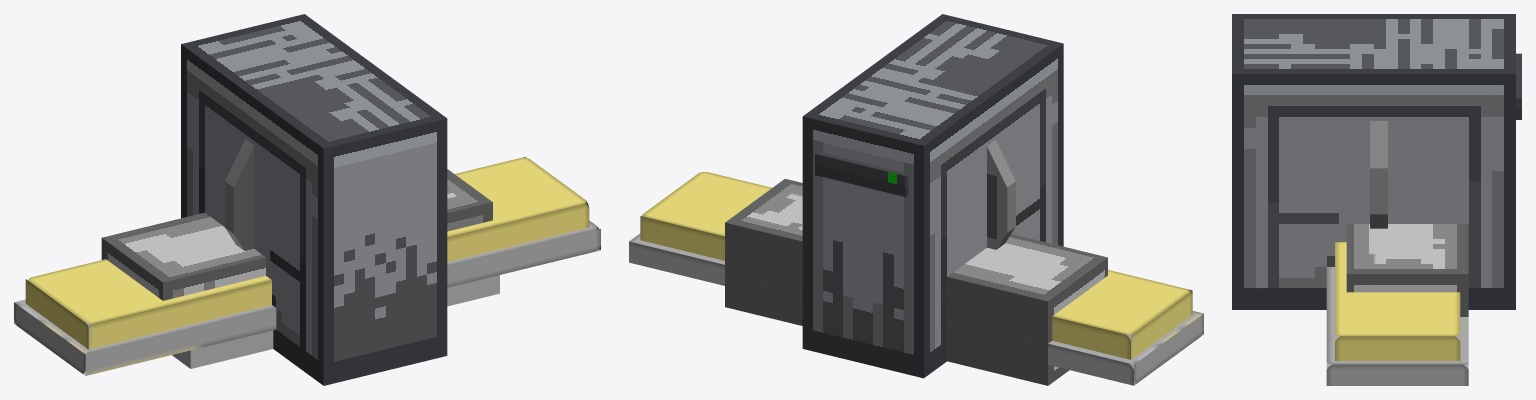
File: Lamp.fbx
3 views of the same model, side by side, from view 1: azimuth 30°, elevation 25°; view 2: azimuth 150°, elevation 25°; view 3: azimuth 270°, elevation 25° (orthographic). The views are drawn at different scales.
Visible parts, largest first — view 1: cube, cube_outline, cube_42, cube_39, cube_41, cube_2, circle; view 2: cube, cube_39, cube_outline, cube_42, circle, cube_1, cube_41; view 3: cube, cube_outline, cube_39, cube_42, cube_41, circle, cube_1.
Boxes of the visible parts, box(x1,y1,x2,y2) form: cube: box(181, 14, 447, 385); cube_outline: box(25, 156, 589, 349); cube_42: box(14, 220, 600, 375); cube_39: box(101, 169, 477, 290); cube_41: box(148, 191, 492, 300); cube_2: box(172, 275, 499, 368); circle: box(225, 139, 254, 250); cube: box(802, 14, 1063, 378); cube_39: box(725, 189, 1094, 385); cube_outline: box(640, 172, 1192, 366); cube_42: box(629, 233, 1203, 385); circle: box(987, 140, 1015, 249); cube_1: box(815, 152, 908, 197); cube_41: box(771, 178, 1107, 285); cube: box(1232, 14, 1515, 309); cube_outline: box(1335, 242, 1460, 360); cube_39: box(1374, 224, 1468, 316); cube_42: box(1326, 267, 1468, 385); cube_41: box(1346, 224, 1376, 292); circle: box(1370, 121, 1387, 228); cube_1: box(1516, 53, 1521, 119).
Size of the model in its own units: 156 by 68.87 by 76.56.
